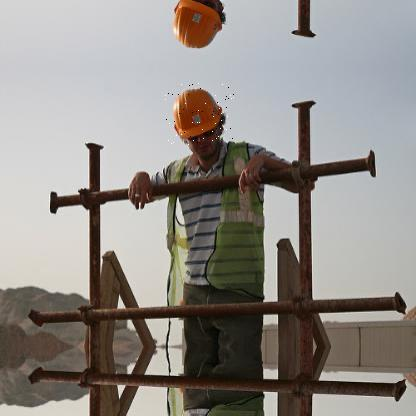safetyhelmet: (164, 84, 236, 148)
